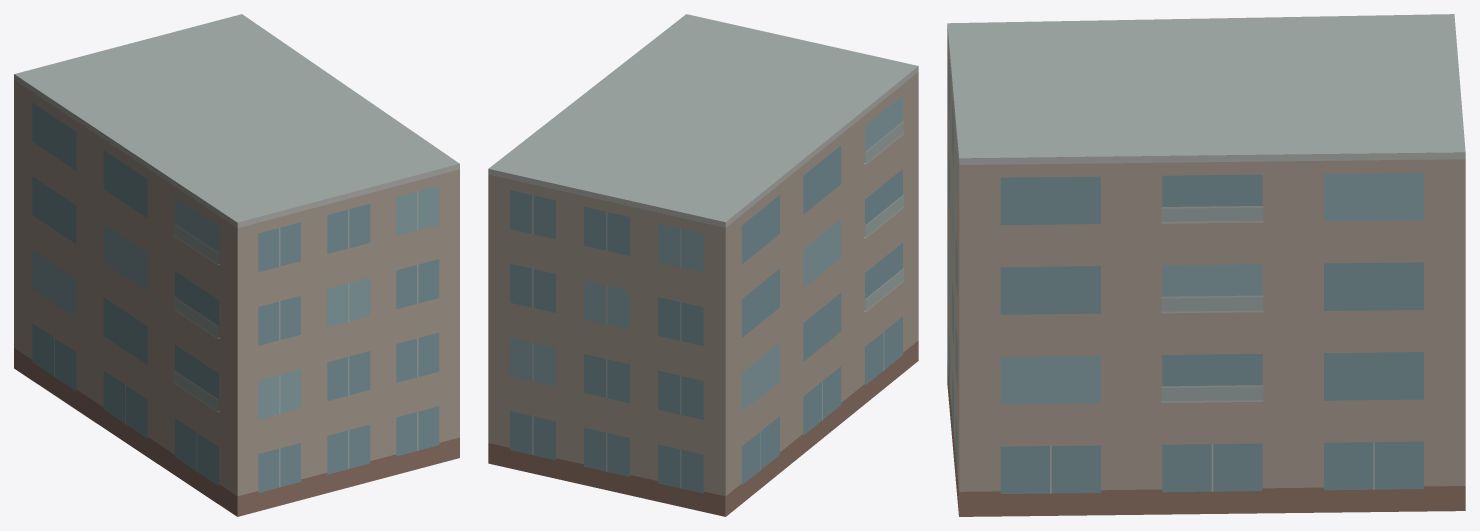
Rendered from survey-upis-33009153.glb.
The picture shows the model from 3 angles, left to right: view 1: azimuth 30°, elevation 25°; view 2: azimuth 150°, elevation 25°; view 3: azimuth 270°, elevation 25°; orthographic projection. The views are drawn at different scales.
Visible parts, largest first — view 1: survey-upis-33009153.tmp; view 2: survey-upis-33009153.tmp; view 3: survey-upis-33009153.tmp.
Part boxes in pixels (x1=…): survey-upis-33009153.tmp: x1=14, y1=14, x2=459, y2=516; survey-upis-33009153.tmp: x1=488, y1=14, x2=918, y2=516; survey-upis-33009153.tmp: x1=947, y1=14, x2=1465, y2=516.
Bounding box in the file's own units: 11.05 × 12.8 × 16.78.
